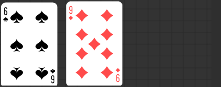6S: (2, 6, 9, 23)
9D: (67, 4, 74, 21)
